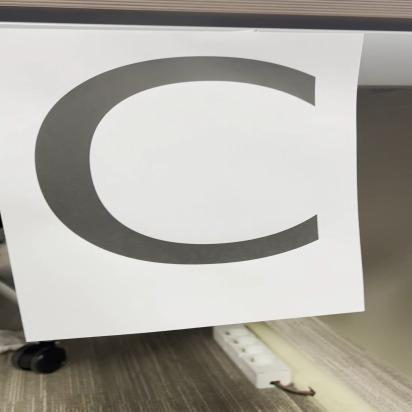seat: (10, 18, 358, 325)
